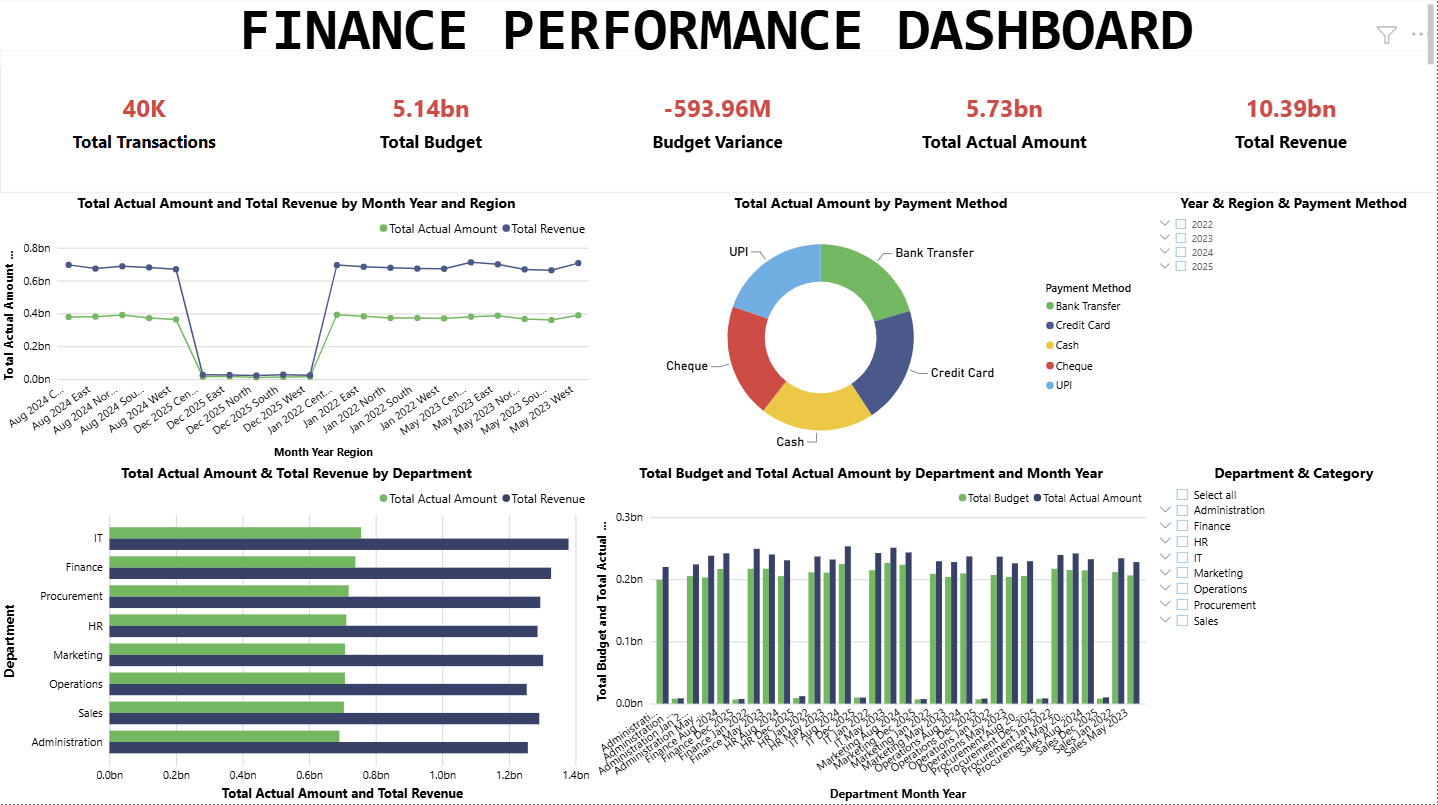

What the dashboard file says about the page in this screenshot:
{"tool":"powerbi","page":{"name":"Finance performance","canvas":[1920,1080],"ordinal":0},"visuals":[{"type":"cardVisual","fields":{"Data":["df.Total Transactions","df.Total Budget","df.Budget Variance","df.Total Actual Amount","df.Total Revenue"]},"box":[0,72,1920,192],"z":0},{"type":"textbox","box":[0,0,1920,96],"z":1000},{"type":"lineChart","fields":{"Category":["DateTable.Month Year","df.Region"],"Y":["df.Total Actual Amount","df.Total Revenue"]},"box":[0,264,792,360],"z":2000},{"type":"clusteredColumnChart","fields":{"Category":["df.Department","DateTable.Month Year"],"Y":["df.Total Budget","df.Total Actual Amount"]},"box":[792,624,744,456],"z":3000},{"type":"clusteredBarChart","title":"Total Actual Amount & Total Revenue by Department","fields":{"Category":["df.Department"],"Y":["df.Total Actual Amount","df.Total Revenue"]},"box":[0,624,792,456],"z":4000},{"type":"donutChart","title":"Total Actual Amount by Payment Method","fields":{"Category":["df.Payment_Method"],"Y":["df.Total Actual Amount"]},"box":[792,264,744,360],"z":5000},{"type":"slicer","title":"Year & Region & Payment Method","fields":{"Values":["DateTable.Year","df.Region","df.Payment_Method"]},"box":[1536,264,384,360],"z":6000},{"type":"slicer","title":"Department & Category","fields":{"Values":["df.Department","df.Category"]},"box":[1536,624,384,456],"z":7000}]}

Visuals, with their boxes in screenshot pixels (x1, y1, x2, y2), scaled from the page's 1920x1080 canvas onto the 1438x805 screenshot:
cardVisual - df.Total Transactions x df.Total Budget: 0:54:1437:197
textbox: 0:0:1437:72
lineChart - DateTable.Month Year x df.Region: 0:197:593:465
clusteredColumnChart - df.Department x DateTable.Month Year: 593:465:1150:804
"Total Actual Amount & Total Revenue by Department" clusteredBarChart: 0:465:593:804
"Total Actual Amount by Payment Method" donutChart: 593:197:1150:465
"Year & Region & Payment Method" slicer: 1150:197:1437:465
"Department & Category" slicer: 1150:465:1437:804
